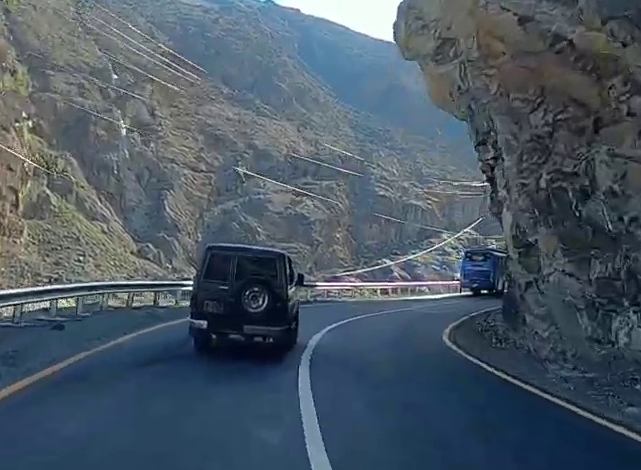stright: (238, 257, 541, 466)
